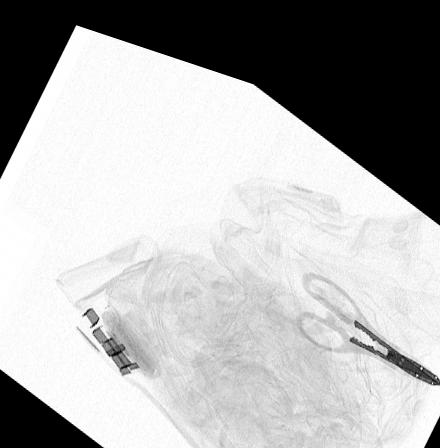Scissors: (296, 247, 440, 362)
